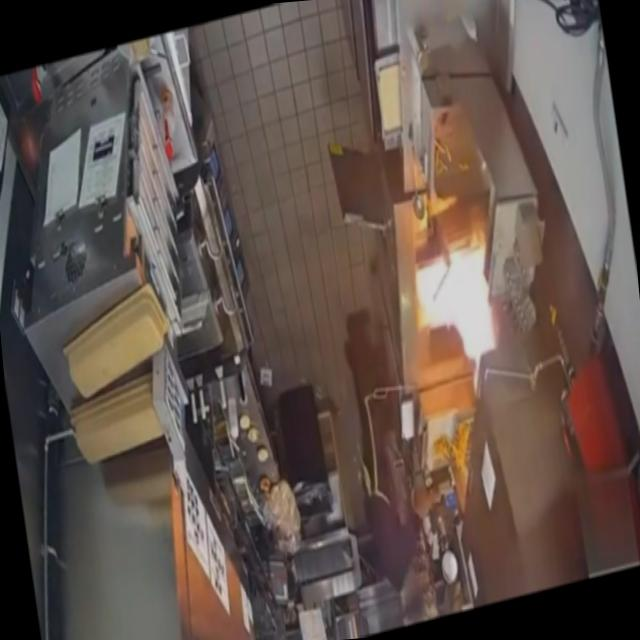fire: (404, 210, 515, 404)
